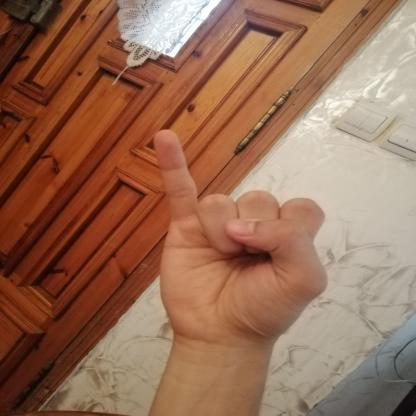MEEM: (123, 112, 349, 357)
